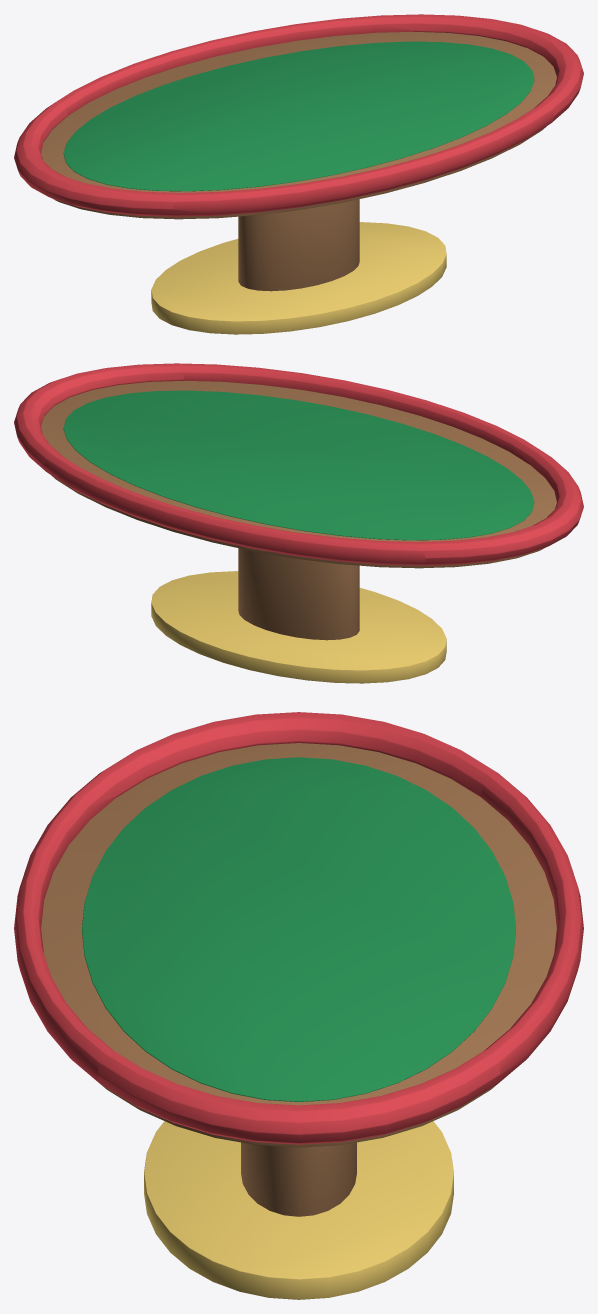
Rendered from Mesa.glb.
3 views of the same model, one above another, from view 1: azimuth 30°, elevation 25°; view 2: azimuth 150°, elevation 25°; view 3: azimuth 270°, elevation 25° (orthographic). The views are drawn at different scales.
Visible parts, largest first — view 1: Mesa; view 2: Mesa; view 3: Mesa.
Boxes of the visible parts, box(x1,y1,x2,y2) form: Mesa: box(14, 14, 583, 334); Mesa: box(14, 363, 583, 683); Mesa: box(14, 712, 583, 1299).
Size of the model in its own units: 2.52 by 0.8026 by 1.47.
